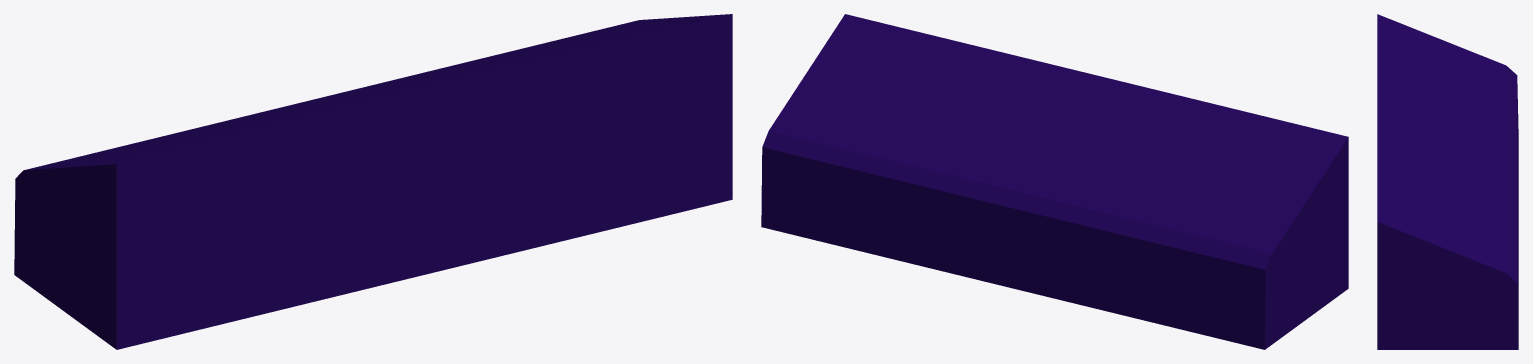
The model's file is button_holder.fbx.
3 views of the same model, side by side, from view 1: azimuth 30°, elevation 25°; view 2: azimuth 150°, elevation 25°; view 3: azimuth 270°, elevation 25° (orthographic). The views are drawn at different scales.
Visible parts, largest first — view 1: buttongolder; view 2: buttongolder; view 3: buttongolder.
Boxes of the visible parts, x1,y1,x2,y2 form: buttongolder: [14, 14, 732, 349]; buttongolder: [761, 14, 1348, 349]; buttongolder: [1377, 14, 1518, 349].
Bounding box in the file's own units: 65.23 × 18.8 × 18.8.
